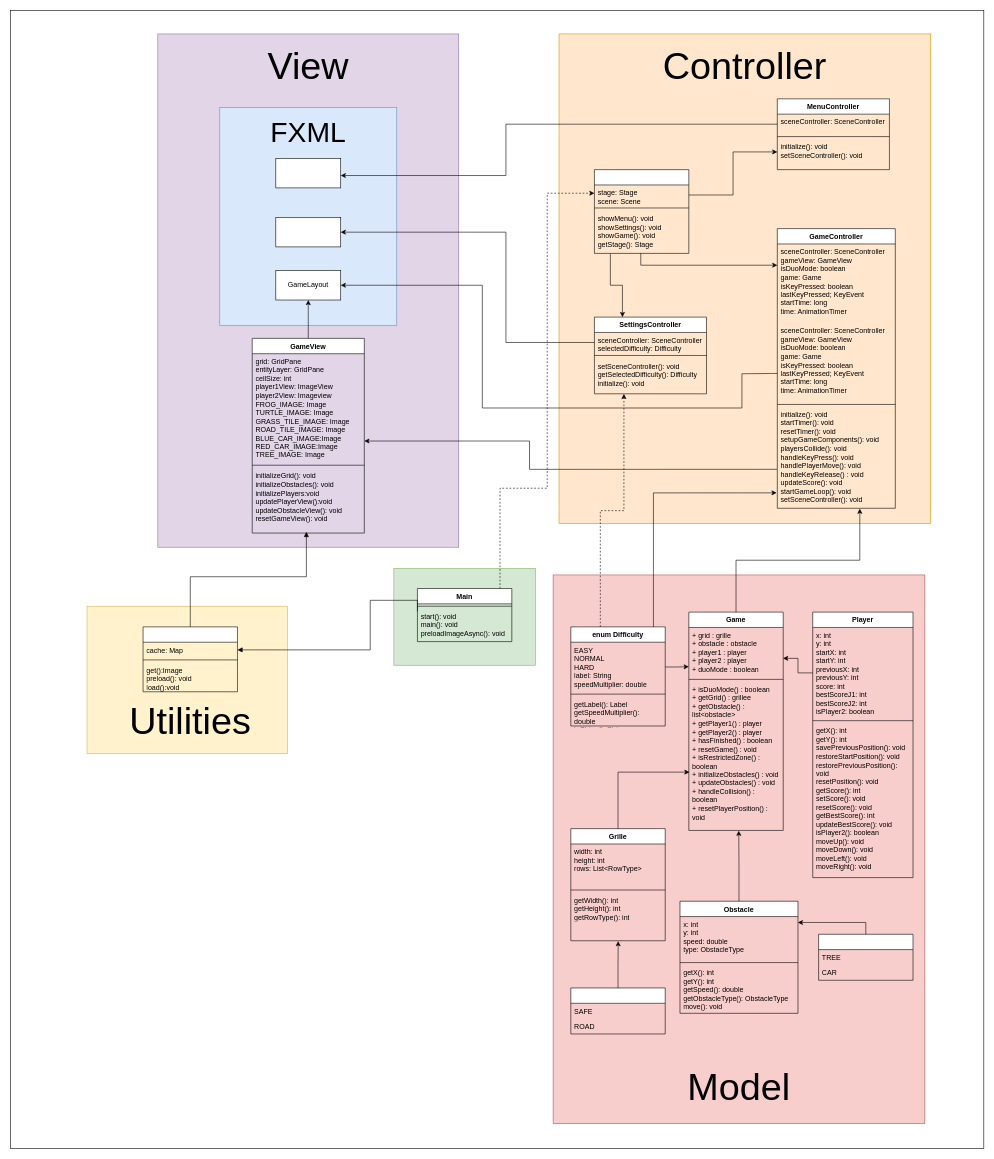
Some shapes in this 994 by 1159 pixel diagram are drawn without their labels. Here are the shapes that lost their labels. From the top down, the box of each, then its label:
(275, 158, 341, 188): MenuLayout
(594, 169, 689, 253): SceneController
(275, 217, 341, 247): SettingsLayout
(142, 626, 237, 692): ImageCache
(818, 934, 913, 980): enum ObstacleType
(570, 987, 665, 1034): enum RowType
